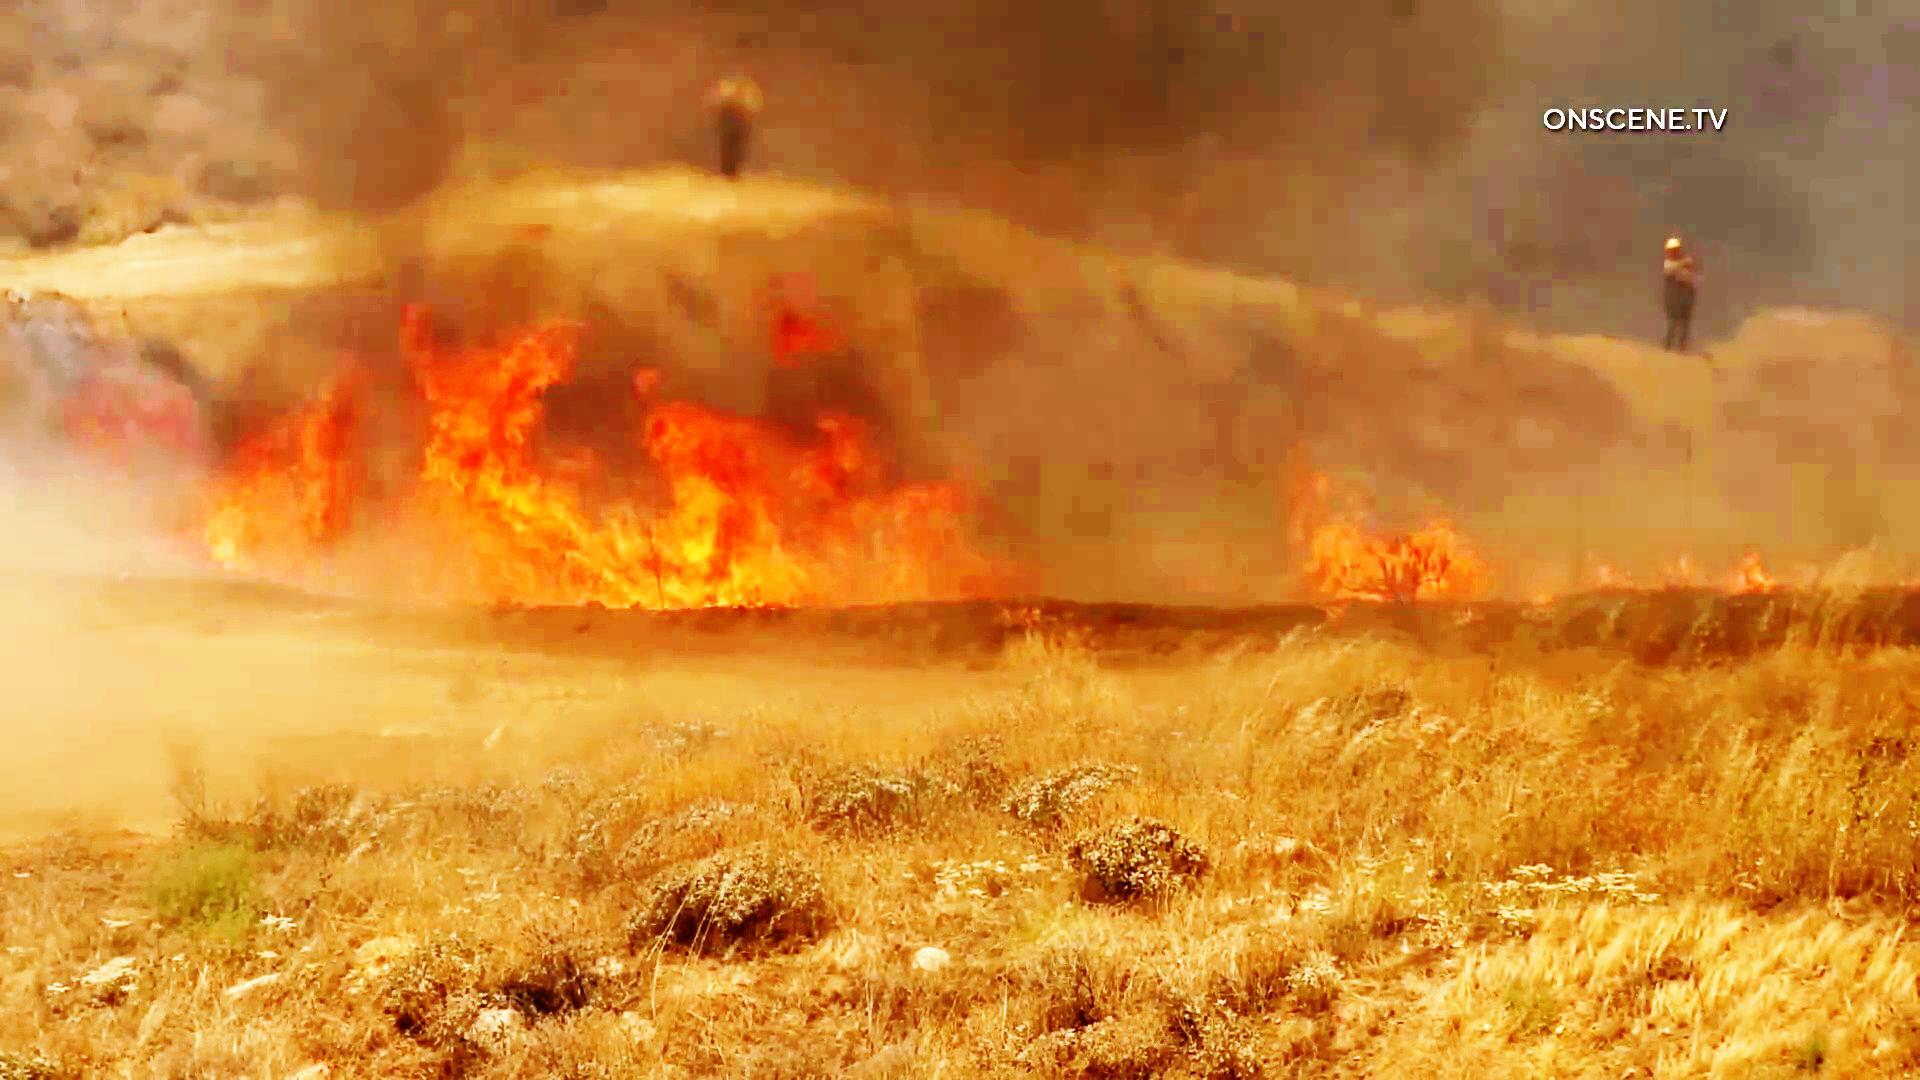fire: (125, 286, 1047, 618), (1305, 446, 1482, 595)
